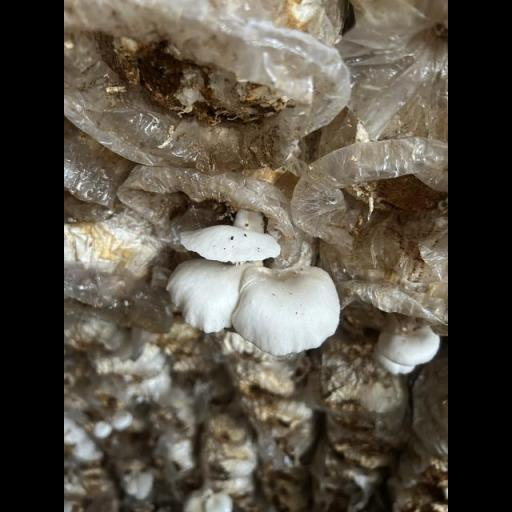White Oyster Mushroom: (162, 199, 366, 371)
